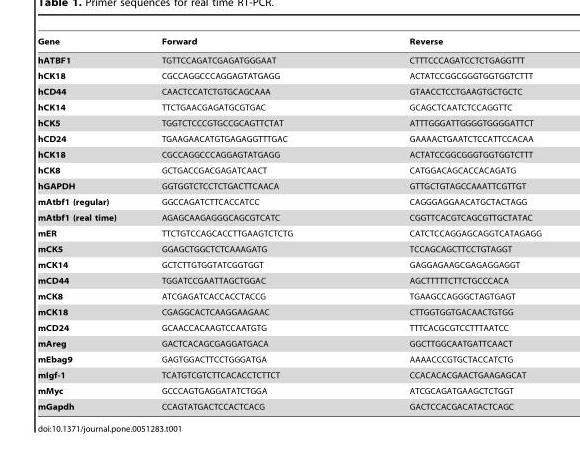table: (37, 36, 540, 410)
table column: (138, 36, 350, 410), (350, 36, 540, 410), (37, 36, 138, 410)
table column header: (37, 36, 540, 50)
table row: (37, 50, 540, 67), (37, 67, 540, 83), (37, 83, 540, 99), (37, 99, 540, 115), (37, 130, 540, 146), (37, 146, 540, 162), (37, 162, 540, 178), (37, 193, 540, 209), (37, 209, 540, 225), (37, 225, 540, 241), (37, 256, 540, 272), (37, 272, 540, 288), (37, 288, 540, 304), (37, 319, 540, 335), (37, 335, 540, 351), (37, 351, 540, 367), (37, 382, 540, 398), (37, 115, 540, 130), (37, 178, 540, 193), (37, 241, 540, 256), (37, 304, 540, 319), (37, 367, 540, 382), (37, 36, 540, 50), (37, 398, 540, 410)
